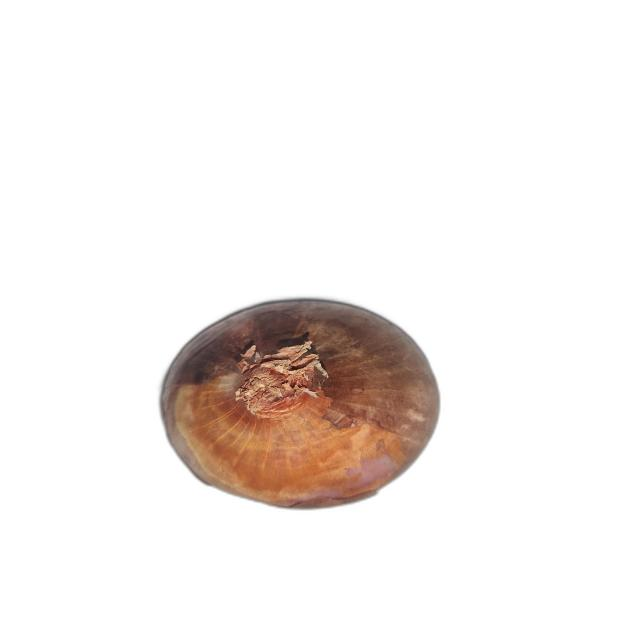onion: (160, 298, 440, 509)
